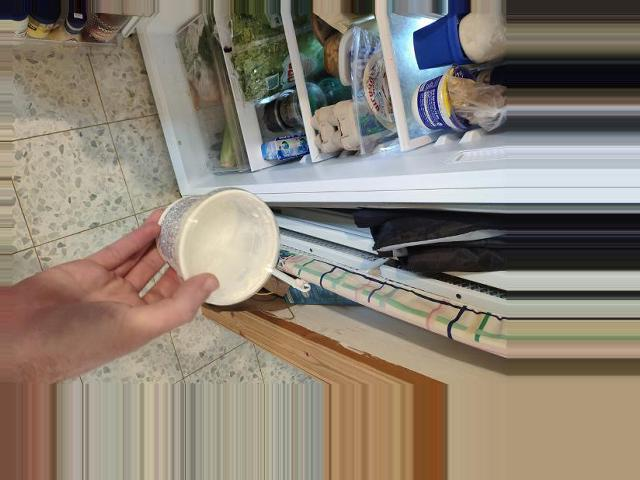cotage: (172, 190, 292, 290)
